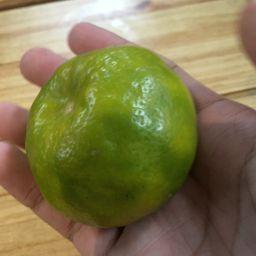Unripe: (27, 49, 194, 226)
